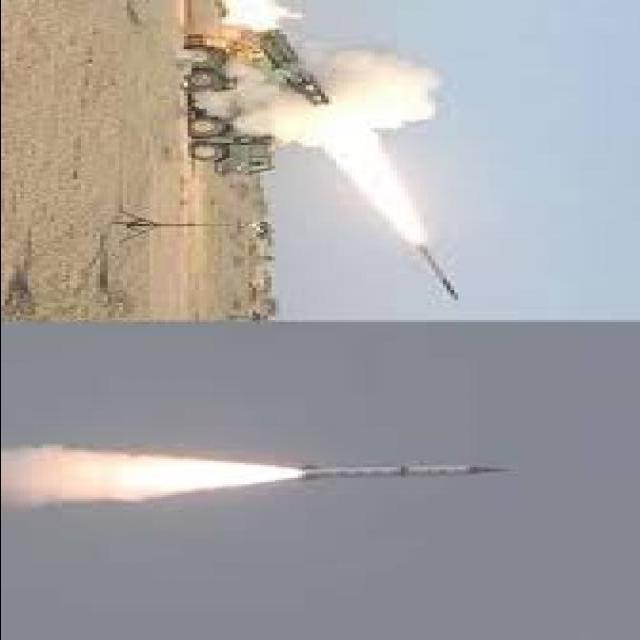Missile: (299, 463, 526, 483), (415, 242, 464, 303)
